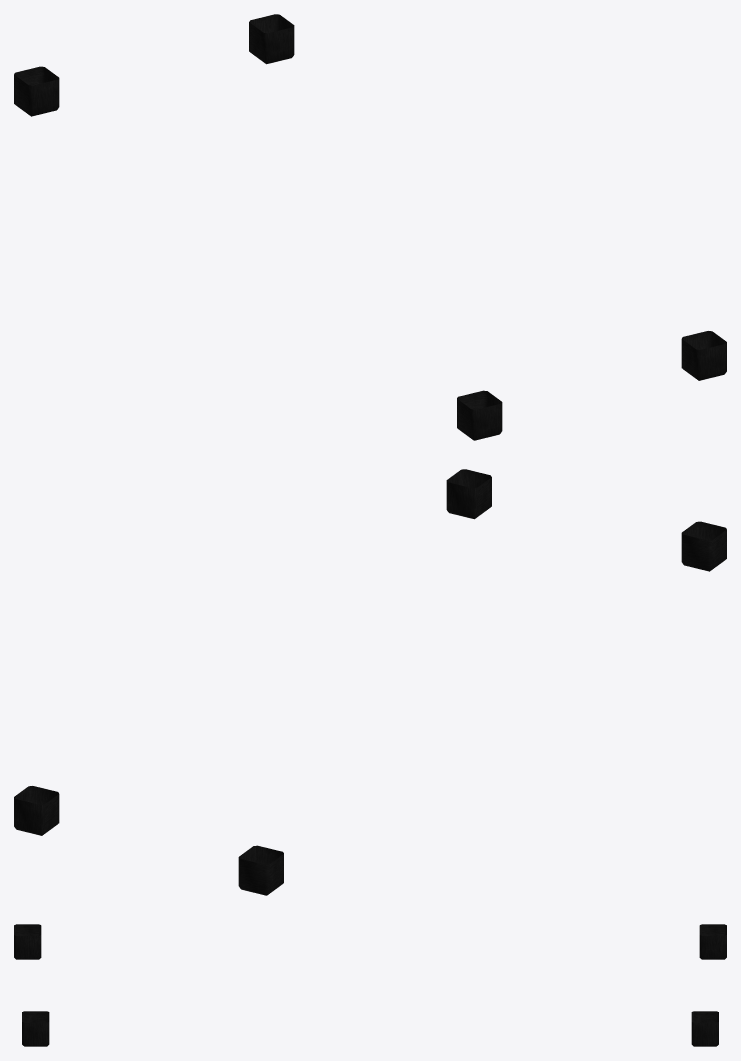
Rendered from couch_legs1.obj.
The picture shows the model from 3 angles, top to bottom: view 1: azimuth 30°, elevation 25°; view 2: azimuth 150°, elevation 25°; view 3: azimuth 270°, elevation 25°; orthographic projection. The views are drawn at different scales.
Visible parts, largest first — view 1: couch1-legs; view 2: couch1-legs; view 3: couch1-legs.
Boxes of the visible parts, x1=… form: couch1-legs: x1=14, y1=14, x2=726, y2=440; couch1-legs: x1=14, y1=469, x2=726, y2=895; couch1-legs: x1=14, y1=924, x2=726, y2=1046.
Size of the model in its own units: 0.7383 by 0.087 by 2.26.
Materials: 1 (1 with a texture image).
